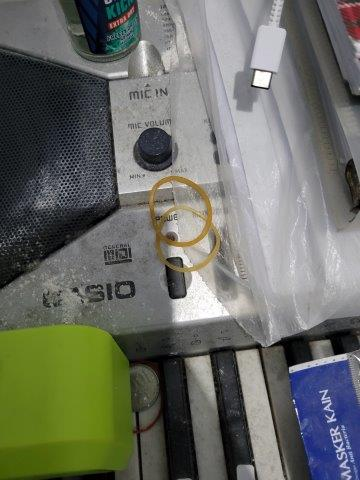karet: (156, 205, 222, 271), (150, 177, 211, 247)
